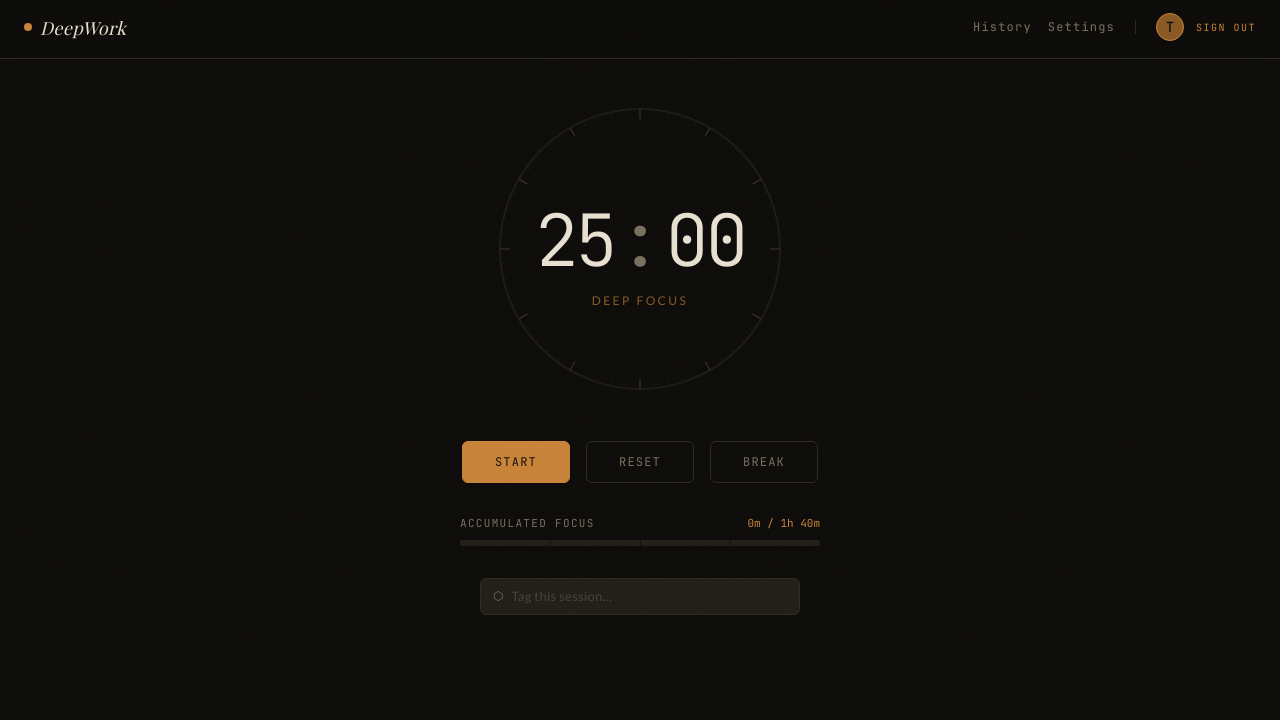
Test: TimerWidget Tag Autocomplete UI › should display autocomplete suggestions based on fetch
The image size is (1280, 720).
// Focus the input to show dropdown
Focus the field with placeholder "Tag this session…": (649, 596) [512, 586, 787, 606]
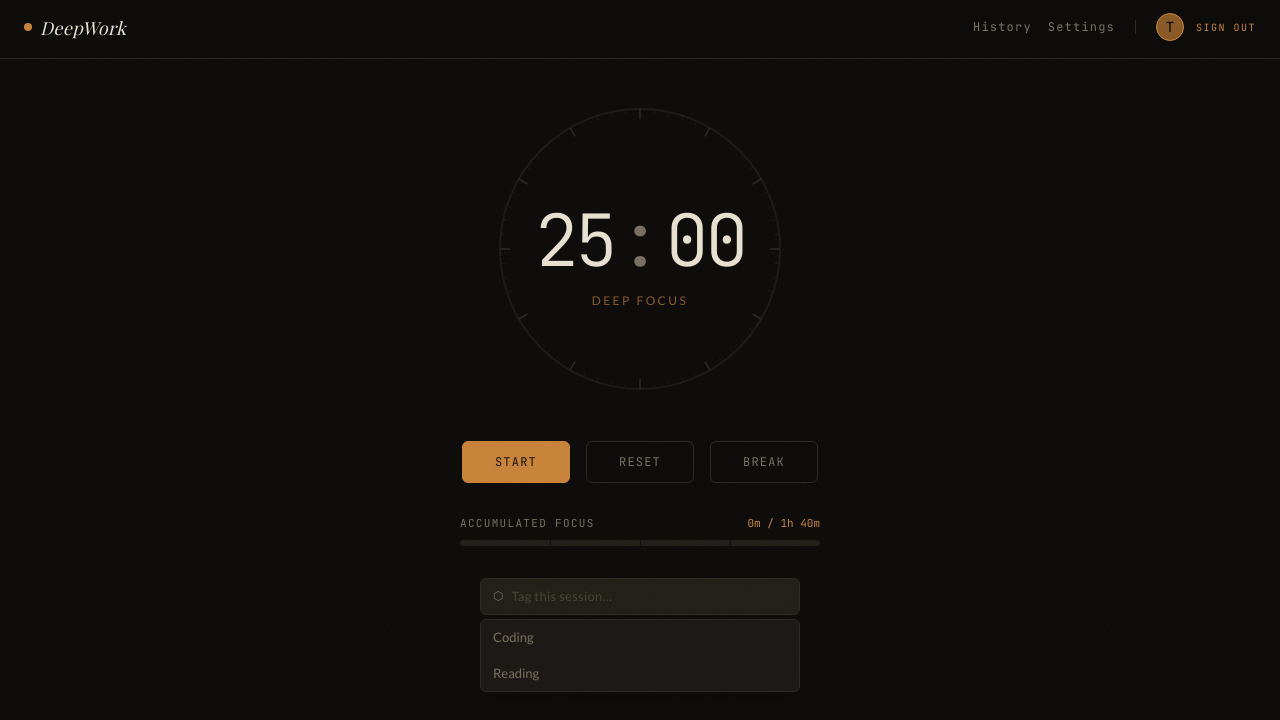
Expected: the text "Coding" is shown, [493, 628, 534, 648]
Expected: the text "Reading" is shown, [493, 664, 539, 683]
